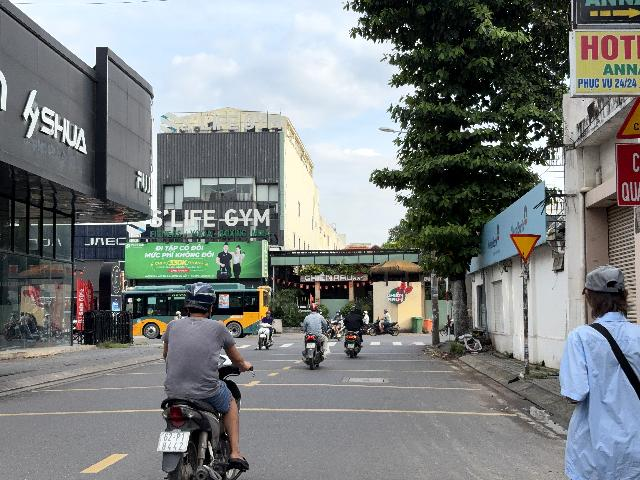giao-nhau-voi-duong-uu-tien: (510, 233, 541, 263)
